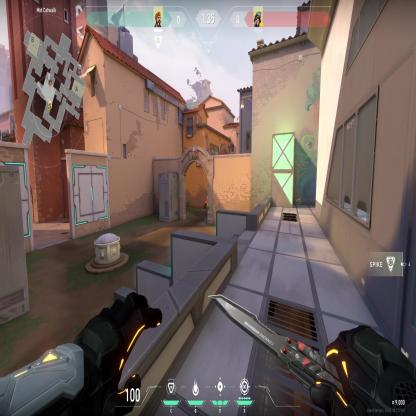enemy: (205, 195, 208, 221)
